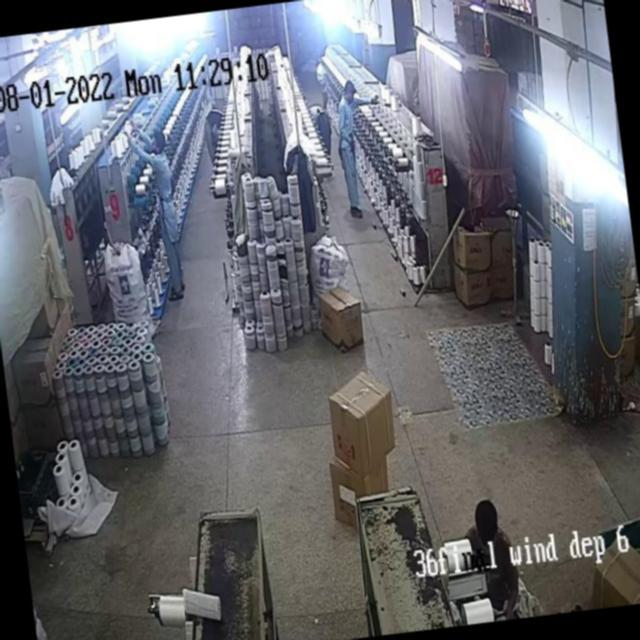person: (146, 134, 188, 299), (334, 80, 372, 226), (468, 489, 516, 582)
